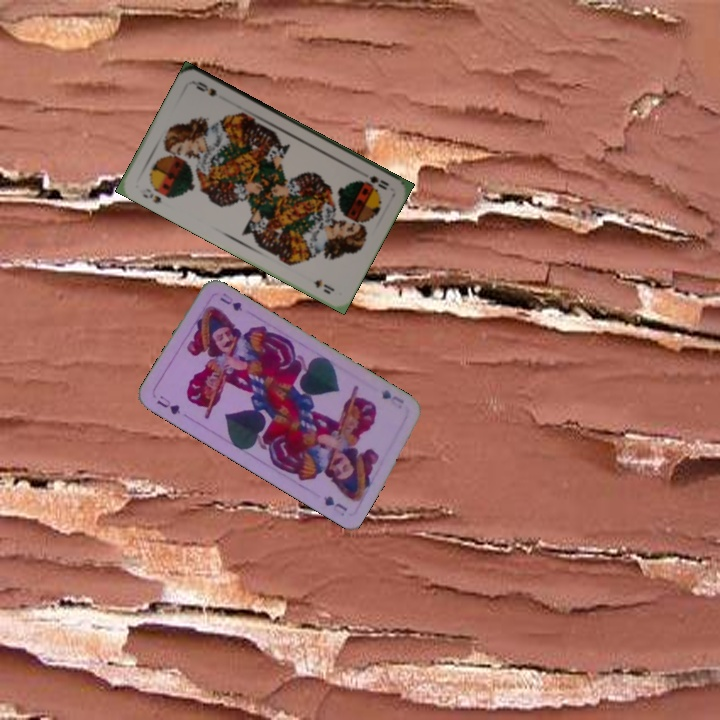GU: (152, 391, 183, 417), (377, 385, 407, 407)
SO: (136, 184, 164, 206), (361, 172, 391, 192)
